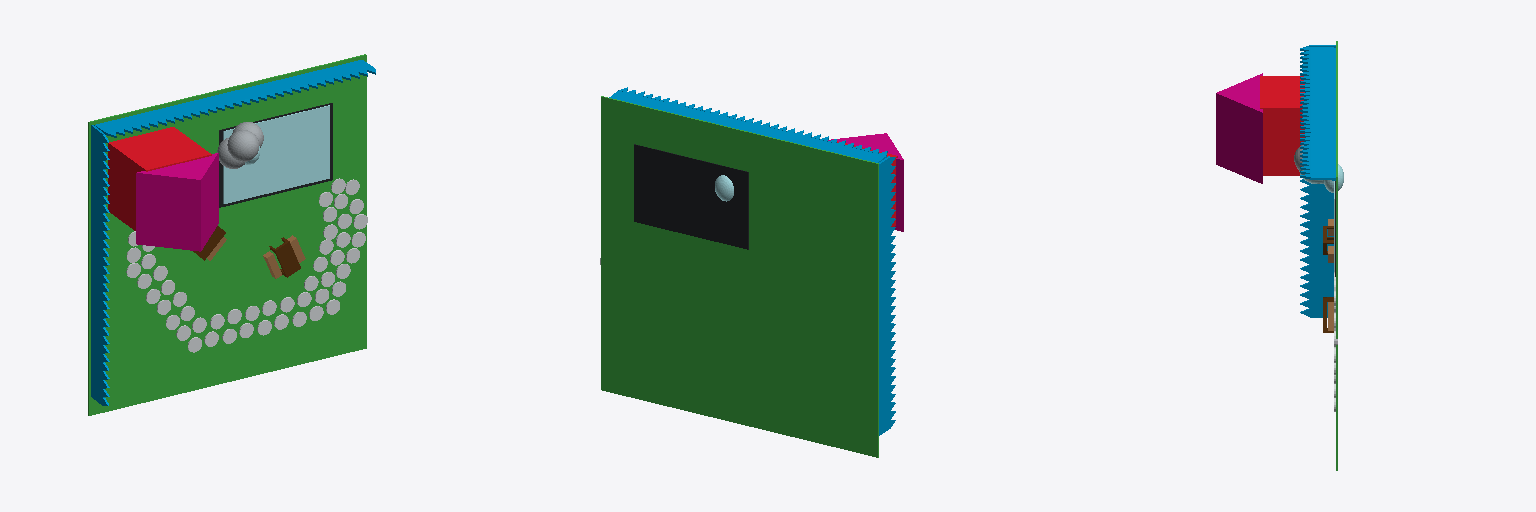
Rendered from tinker.obj.
3 views of the same model, side by side, from view 1: azimuth 30°, elevation 25°; view 2: azimuth 150°, elevation 25°; view 3: azimuth 270°, elevation 25° (orthographic).
Visible parts, largest first — view 1: obj_0; view 2: obj_0; view 3: obj_0.
Part boxes in pixels (bbox=[...]): obj_0: bbox=[88, 54, 375, 415]; obj_0: bbox=[600, 87, 903, 457]; obj_0: bbox=[1216, 41, 1343, 470].
Size of the model in its own units: 199 by 201 by 79.5.